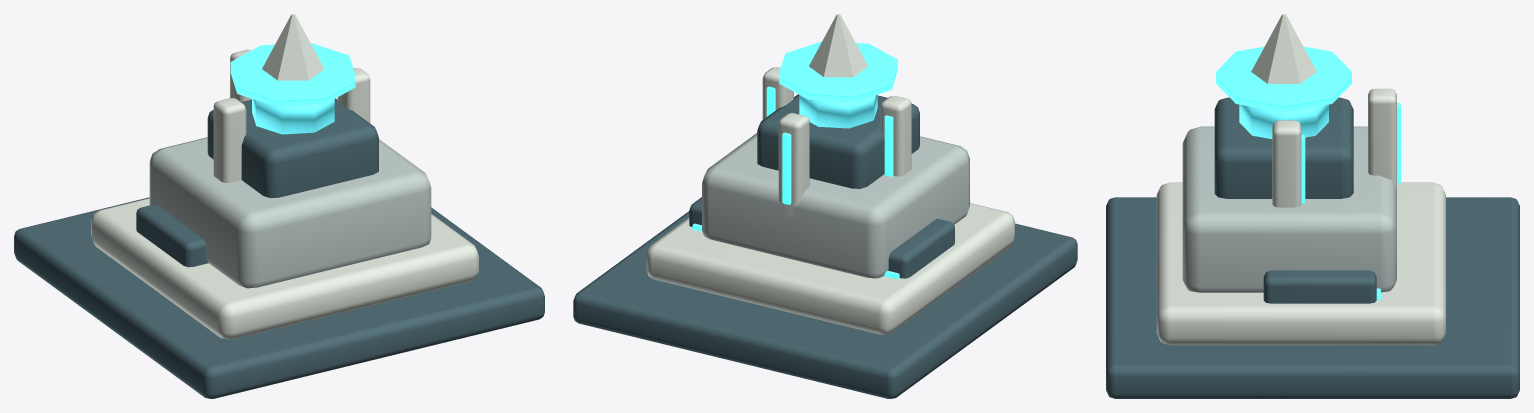
The model's file is ion-spire.glb.
3 renders of one model, left to right at view 1: azimuth 30°, elevation 25°; view 2: azimuth 150°, elevation 25°; view 3: azimuth 270°, elevation 25°, orthographic. The views are drawn at different scales.
Parts seen in each view (by area): view 1: Ion platform, Spire armored body, Spire lower armor, Emitter housing, Ion emitter crown, Ion side capacitor, Ion containment coil, Spire focus crystal, Ion emitter core, Ion containment coil.001; view 2: Ion platform, Spire armored body, Spire lower armor, Emitter housing, Ion emitter crown, Ion containment coil.002, Ion side capacitor, Spire focus crystal, Ion emitter core, Ion containment coil, Ion containment coil.001, Coil energy channel.002 (+1 smaller); view 3: Ion platform, Spire lower armor, Spire armored body, Emitter housing, Ion emitter crown, Ion side capacitor.001, Spire focus crystal, Ion containment coil.002, Ion containment coil.001, Ion emitter core.
Boxes of the visible parts, <box> form: Ion platform: <box>14,197,544,398</box>; Spire armored body: <box>149,137,431,288</box>; Spire lower armor: <box>91,198,478,339</box>; Emitter housing: <box>207,98,378,198</box>; Ion emitter crown: <box>230,43,355,106</box>; Ion side capacitor: <box>136,204,208,267</box>; Ion containment coil: <box>213,98,246,182</box>; Spire focus crystal: <box>262,14,324,80</box>; Ion emitter core: <box>252,99,334,134</box>; Ion containment coil.001: <box>337,68,370,123</box>; Ion platform: <box>573,211,1077,398</box>; Spire armored body: <box>702,133,969,278</box>; Spire lower armor: <box>646,203,1014,334</box>; Emitter housing: <box>757,94,919,188</box>; Ion emitter crown: <box>779,41,897,101</box>; Ion containment coil.002: <box>778,113,809,217</box>; Ion side capacitor: <box>888,219,954,278</box>; Spire focus crystal: <box>809,14,867,77</box>; Ion emitter core: <box>799,94,877,128</box>; Ion containment coil: <box>880,96,911,176</box>; Ion containment coil.001: <box>762,67,793,119</box>; Coil energy channel.002: <box>782,132,791,204</box>; Ion platform: <box>1106,197,1519,398</box>; Spire lower armor: <box>1156,182,1445,345</box>; Spire armored body: <box>1182,126,1396,292</box>; Emitter housing: <box>1214,97,1353,198</box>; Ion emitter crown: <box>1216,46,1351,112</box>; Ion side capacitor.001: <box>1263,270,1376,303</box>; Spire focus crystal: <box>1251,14,1316,83</box>; Ion containment coil.002: <box>1368,88,1396,188</box>; Ion containment coil.001: <box>1272,120,1301,207</box>; Ion emitter core: <box>1239,104,1328,138</box>.
Size of the model in its own units: 2.86 by 2.29 by 2.86.
